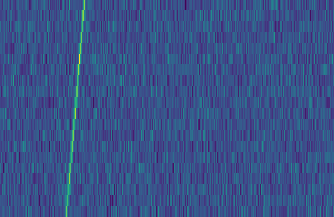signal: (59, 0, 86, 217)
